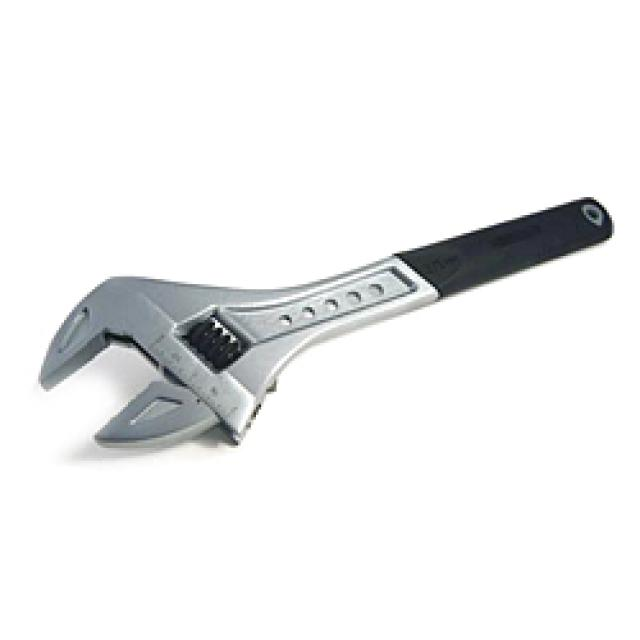wrench: (13, 194, 640, 473)
